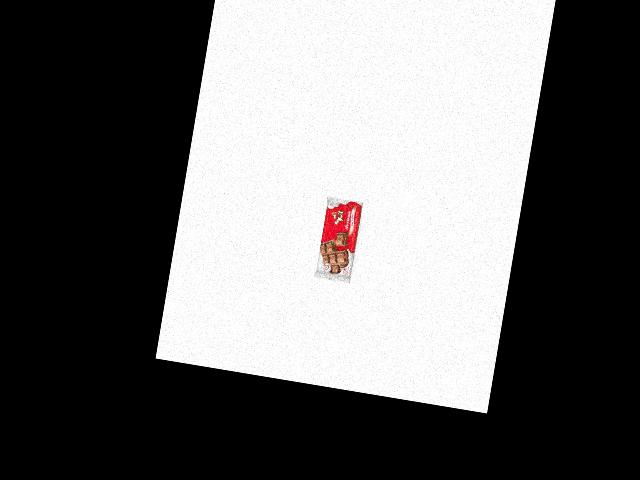chocolate: (313, 195, 363, 286)
